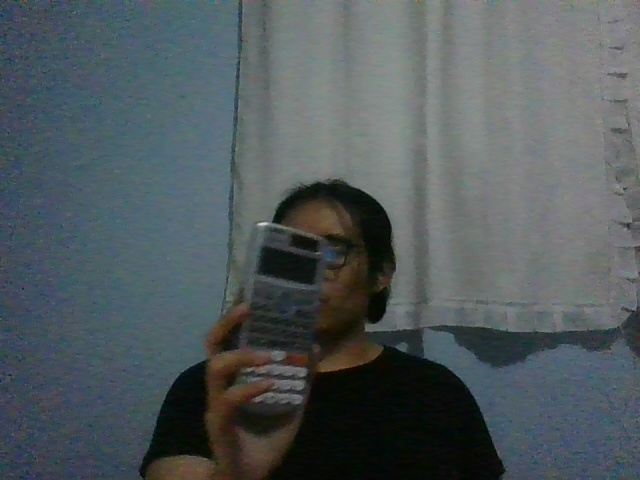calculadora: (232, 222, 329, 415)
